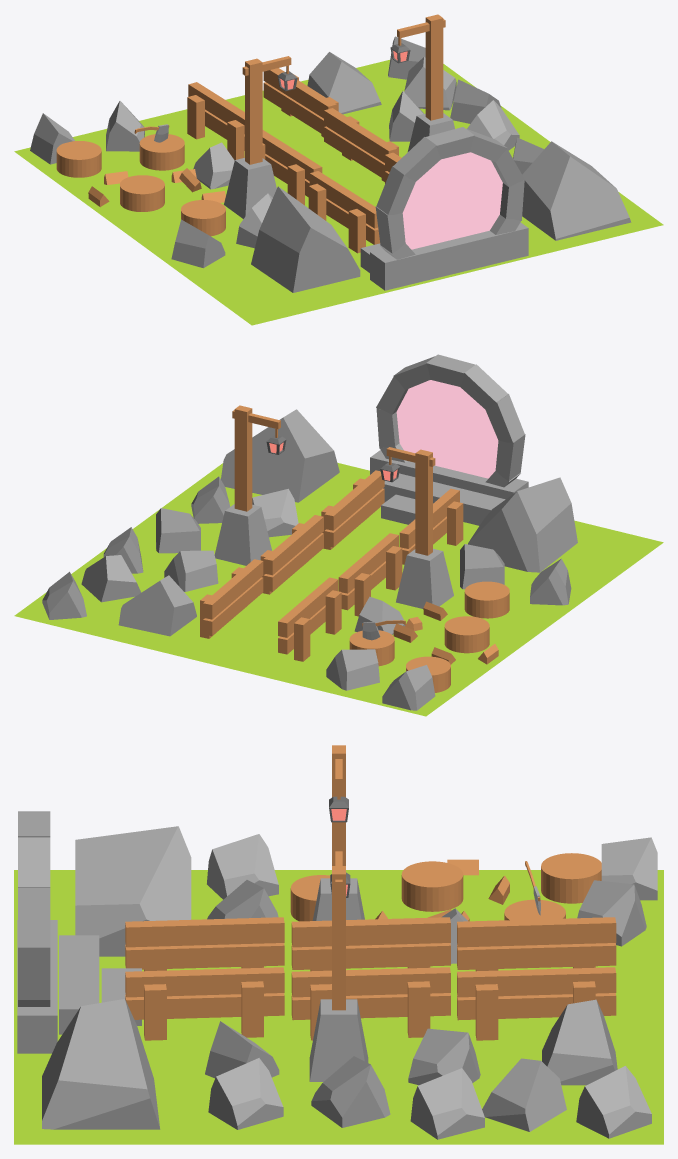
3 renders of one model, top to bottom at view 1: azimuth 30°, elevation 25°; view 2: azimuth 150°, elevation 25°; view 3: azimuth 270°, elevation 25°, orthographic. The views are drawn at different scales.
Parts seen in each view (by area): view 1: Plane, Circle, Cube.044, Cube.038, Cube.067, Cube.045, Cube.023, Cube.039, Cube.027, Cube.054, Cylinder, Cylinder.003 (+33 smaller); view 2: Plane, Circle, Cube.038, Cube.044, Cube.045, Cube.023, Cube.014, Cube.067, Cube.046, Cube.039, Cube.068, Cube.027 (+38 smaller); view 3: Plane, Cube.044, Cube.038, Cube.045, Cube.020, Cube.003, Cube.046, Cube.072, Cube.055, Cube.051, Cube.049, Cube.006 (+35 smaller).
Part boxes in pixels (x1=…): Plane: x1=14, y1=60, x2=663, y2=325; Circle: x1=402, y1=152, x2=502, y2=249; Cube.044: x1=522, y1=141, x2=631, y2=240; Cube.038: x1=251, y1=186, x2=360, y2=292; Cube.067: x1=370, y1=222, x2=528, y2=290; Cube.045: x1=307, y1=52, x2=381, y2=114; Cube.023: x1=224, y1=158, x2=276, y2=218; Cube.039: x1=425, y1=14, x2=443, y2=120; Cube.027: x1=245, y1=58, x2=262, y2=164; Cube.054: x1=171, y1=219, x2=225, y2=268; Cylinder: x1=56, y1=141, x2=101, y2=177; Cylinder.003: x1=120, y1=175, x2=164, y2=211; Plane: x1=14, y1=463, x2=663, y2=716; Circle: x1=396, y1=380, x2=498, y2=478; Cube.038: x1=468, y1=477, x2=577, y2=572; Cube.044: x1=221, y1=409, x2=339, y2=502; Cube.045: x1=118, y1=575, x2=196, y2=636; Cube.023: x1=396, y1=548, x2=453, y2=608; Cube.014: x1=214, y1=504, x2=271, y2=565; Cube.067: x1=370, y1=450, x2=528, y2=499; Cube.046: x1=81, y1=555, x2=141, y2=602; Cube.039: x1=234, y1=405, x2=252, y2=511; Cube.068: x1=383, y1=473, x2=505, y2=525; Cube.027: x1=415, y1=449, x2=432, y2=555; Plane: x1=14, y1=870, x2=663, y2=1144; Cube.044: x1=42, y1=999, x2=160, y2=1129; Cube.038: x1=75, y1=826, x2=191, y2=956; Cube.045: x1=542, y1=999, x2=617, y2=1085; Cube.020: x1=457, y1=917, x2=616, y2=947; Cube.003: x1=125, y1=917, x2=284, y2=947; Cube.046: x1=482, y1=1058, x2=566, y2=1131; Cube.072: x1=291, y1=917, x2=450, y2=947; Cube.055: x1=410, y1=1068, x2=484, y2=1139; Cube.051: x1=208, y1=1058, x2=283, y2=1129; Cube.049: x1=576, y1=1066, x2=651, y2=1138; Cube.006: x1=457, y1=943, x2=616, y2=969.
Bounding box in the file's own units: 4 × 1.37 × 4.
